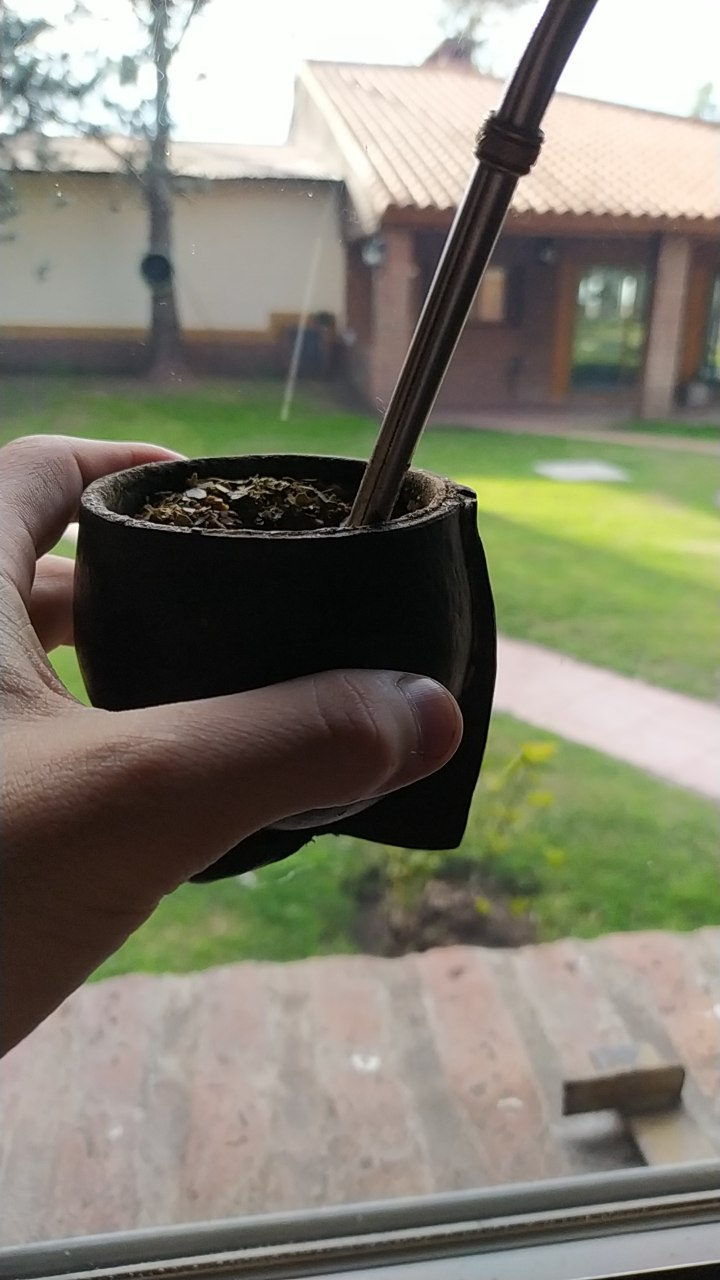calabaza: (62, 1, 604, 908)
mate: (60, 1, 602, 908)
